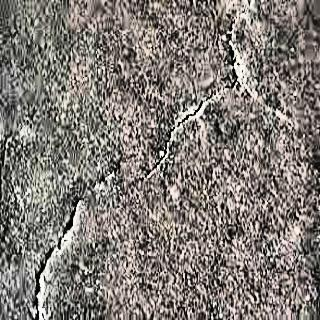crack: (139, 78, 236, 184), (34, 198, 82, 320), (228, 14, 258, 99)
